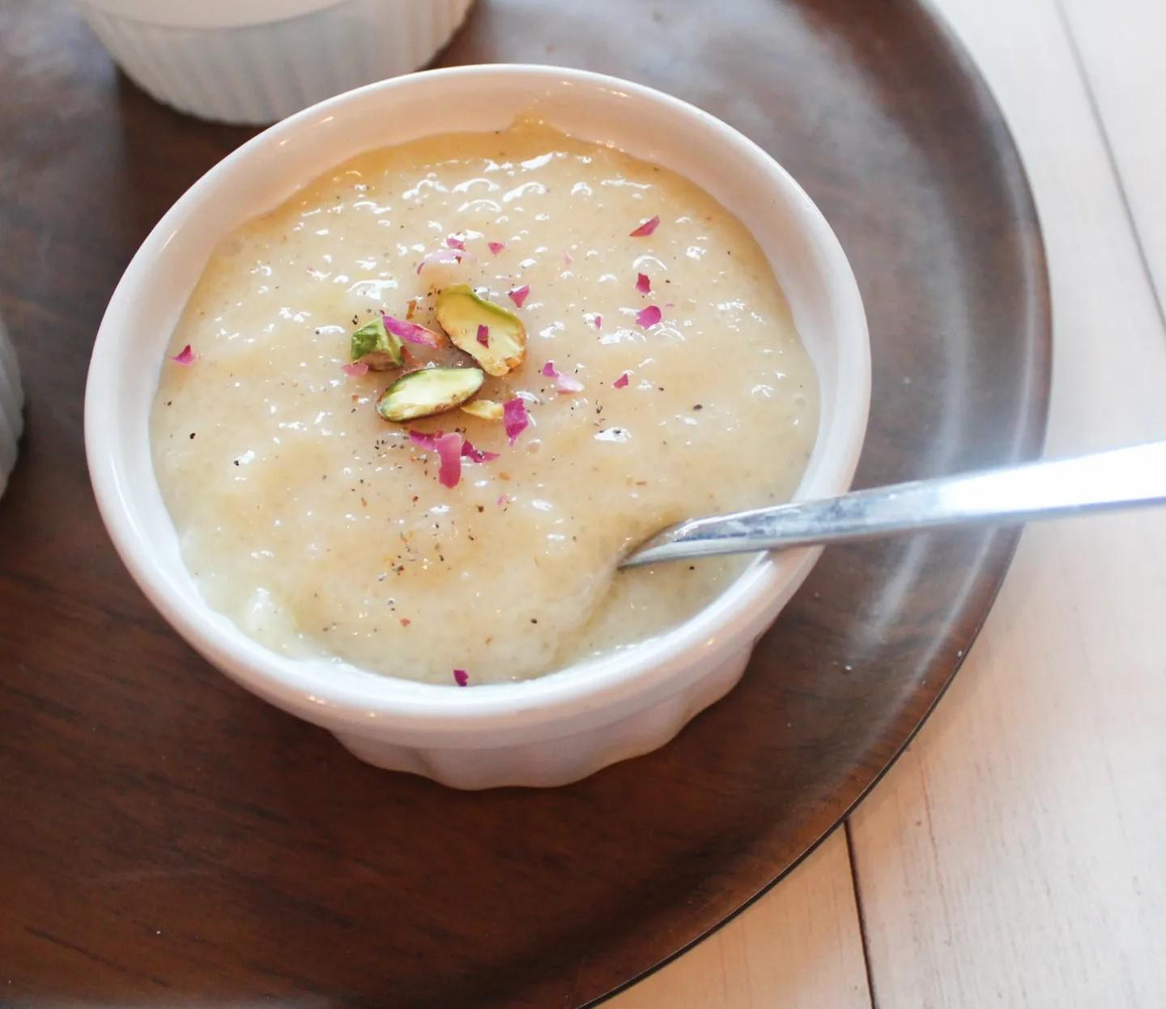Kheer: (171, 134, 811, 672)
